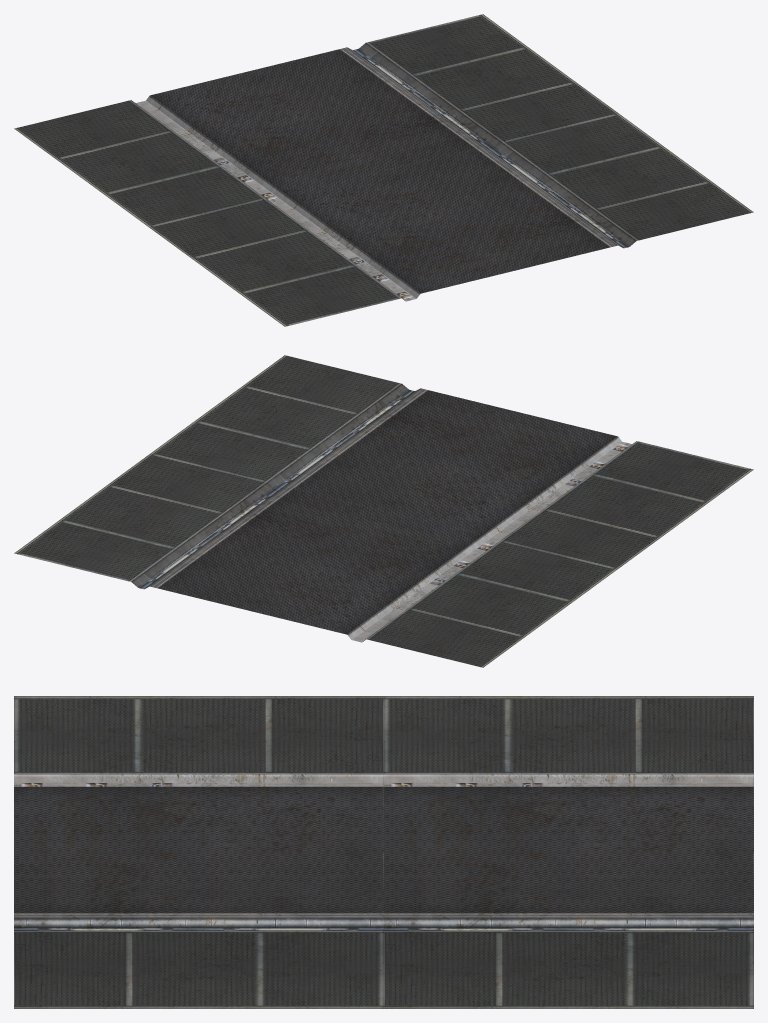
Rendered from ARC_FloorMixed01_5x5.FBX.
3 views of the same model, one above another, from view 1: azimuth 30°, elevation 25°; view 2: azimuth 150°, elevation 25°; view 3: azimuth 270°, elevation 25° (orthographic). The views are drawn at different scales.
Visible parts, largest first — view 1: ARC_FloorMixed01_5x5; view 2: ARC_FloorMixed01_5x5; view 3: ARC_FloorMixed01_5x5.
Part boxes in pixels (x1,y1,x2,y2): ARC_FloorMixed01_5x5: [14, 14, 753, 326]; ARC_FloorMixed01_5x5: [14, 355, 753, 667]; ARC_FloorMixed01_5x5: [14, 696, 753, 1008].
Size of the model in its own units: 500 by 4.33 by 500.
Materials: 1 (1 with a texture image).
